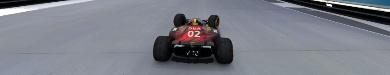Car: (152, 13, 233, 64)
